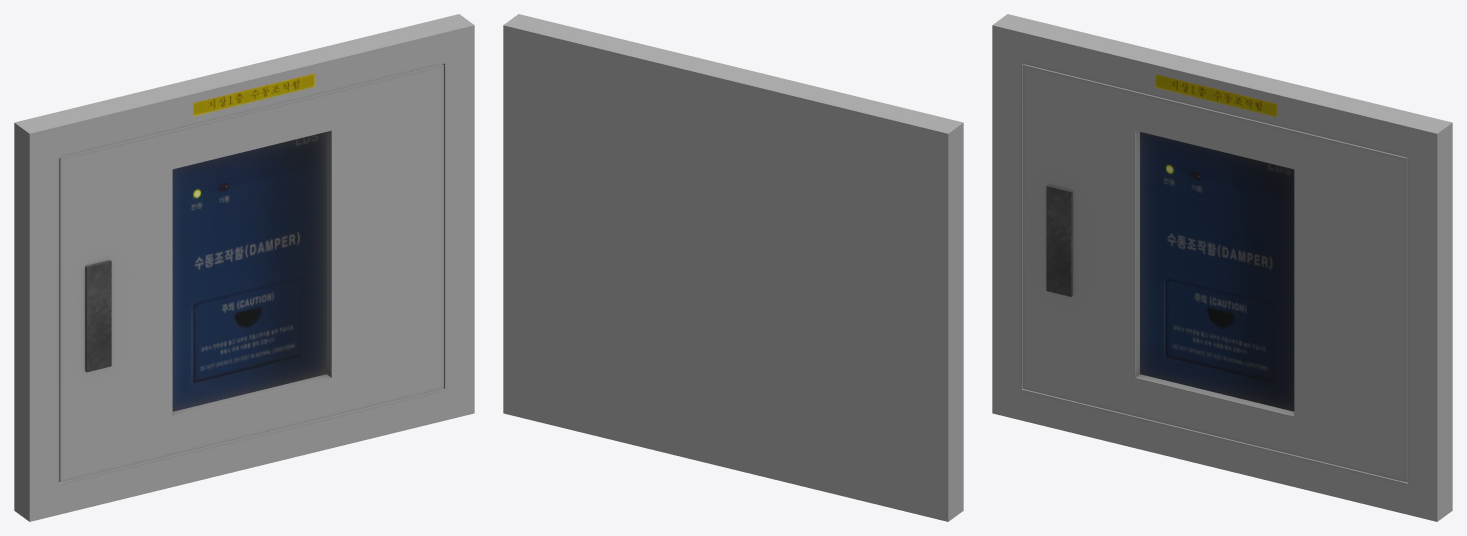
File: LC_3022_FiredoorBox_LOD2.FBX
3 renders of one model, left to right at view 1: azimuth 30°, elevation 25°; view 2: azimuth 150°, elevation 25°; view 3: azimuth 330°, elevation 25°, orthographic.
Visible parts, largest first — view 1: LC_3022_FiredoorBox_LOD2; view 2: LC_3022_FiredoorBox_LOD2; view 3: LC_3022_FiredoorBox_LOD2.
Part boxes in pixels (bbox=[...]): LC_3022_FiredoorBox_LOD2: bbox=[14, 14, 474, 521]; LC_3022_FiredoorBox_LOD2: bbox=[503, 14, 963, 521]; LC_3022_FiredoorBox_LOD2: bbox=[992, 14, 1452, 521].
Bounding box in the file's own units: 36 × 30 × 2.38.
1 material, 1 textured.
